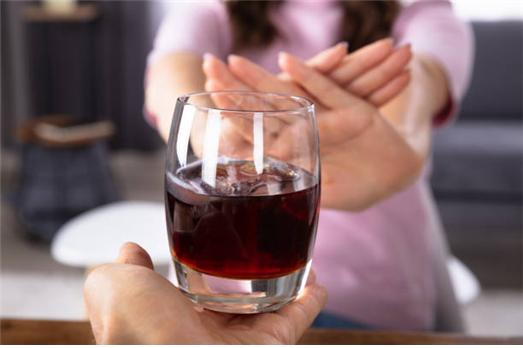alcohol: (164, 92, 321, 315)
